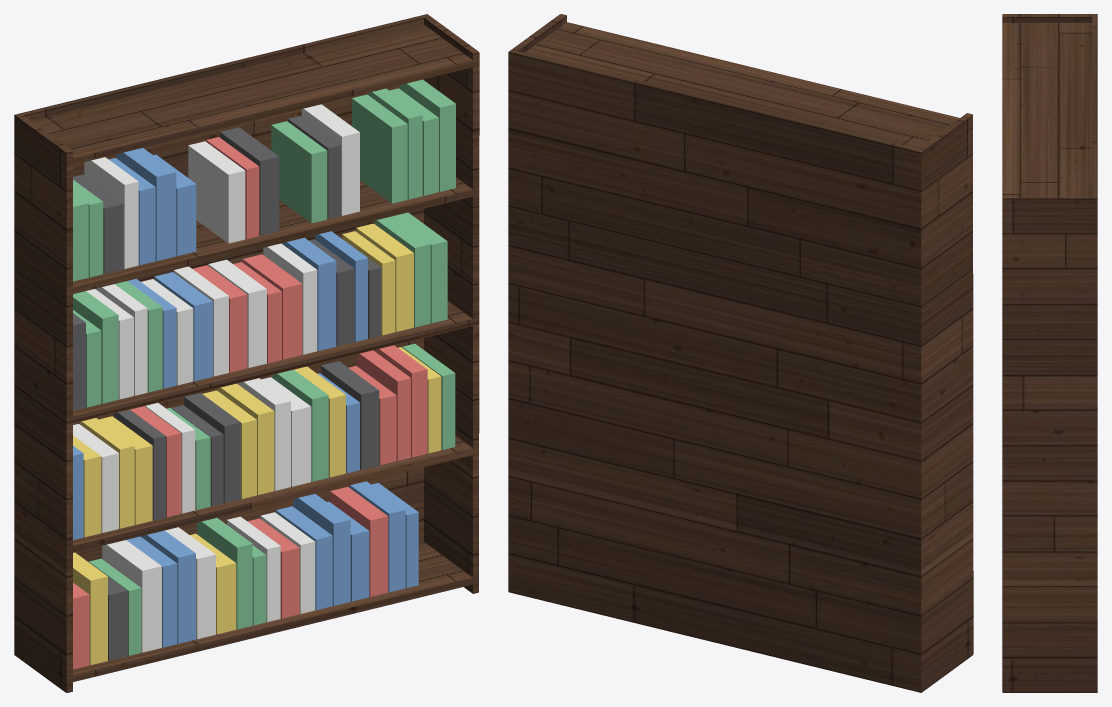
Rendered from bookcase.glb.
3 renders of one model, left to right at view 1: azimuth 30°, elevation 25°; view 2: azimuth 150°, elevation 25°; view 3: azimuth 270°, elevation 25°, orthographic. The views are drawn at different scales.
Visible parts, largest first — view 1: bookcase_dkwood, bookcase_paint_w, bookcase_flag_g, bookcase_flag_b, bookcase_flag_r, bookcase_flag_y, bookcase_dark; view 2: bookcase_dkwood; view 3: bookcase_dkwood.
Boxes of the visible parts, bbox=[...] form: bookcase_dkwood: bbox=[14, 14, 479, 692]; bookcase_paint_w: bbox=[73, 104, 359, 652]; bookcase_flag_g: bbox=[73, 79, 455, 655]; bookcase_flag_b: bbox=[73, 148, 418, 647]; bookcase_flag_r: bbox=[73, 137, 427, 669]; bookcase_flag_y: bbox=[73, 223, 441, 665]; bookcase_dark: bbox=[73, 116, 381, 660]; bookcase_dkwood: bbox=[508, 14, 973, 692]; bookcase_dkwood: bbox=[1002, 14, 1097, 692].
Size of the model in its own units: 1.6 by 2 by 0.35.
7 materials, 1 textured.
